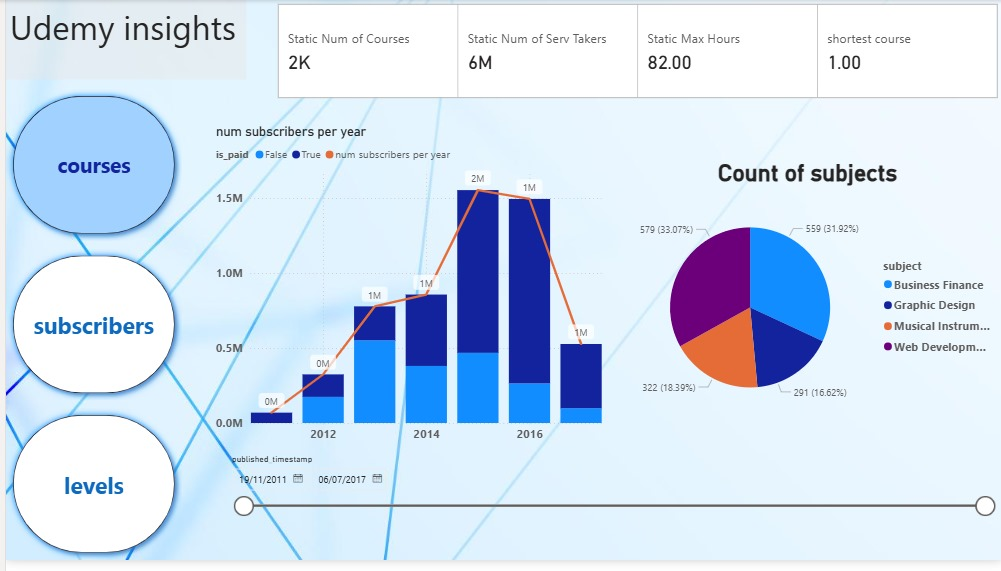

The page's visual inventory and layout, read from the dashboard file:
{"tool":"powerbi","page":{"name":"courses","canvas":[1280,720],"ordinal":0},"visuals":[{"type":"cardVisual","fields":{"Data":["Udemy.Static Num of Courses","Udemy.Static Num of Serv Takers","Udemy.Static Max Hours","Min(Udemy.content_duration_by_hours)"]},"box":[344.4,0,935.6,131.1],"z":0},{"type":"slicer","fields":{"Values":["Udemy.published_timestamp"]},"box":[277.9,578.2,1002.4,141.8],"z":1000},{"type":"lineStackedColumnComboChart","title":"num subscribers per year","fields":{"Category":["Udemy.published_timestamp.Variation.Date Hierarchy.Year","Udemy.published_timestamp.Variation.Date Hierarchy.Quarter","Udemy.published_timestamp.Variation.Date Hierarchy.Month","Udemy.published_timestamp.Variation.Date Hierarchy.Day"],"Y":["Sum(Udemy.num_subscribers)"],"Series":["Udemy.is_paid"],"Y2":["Sum(Udemy.num_subscribers)"]},"box":[264.3,159.7,505.8,418.6],"z":2000},{"type":"textbox","box":[0,0,308.6,102],"z":3000},{"type":"pieChart","title":"Count of subjects","fields":{"Category":["Udemy.subject"],"Y":["CountNonNull(Udemy.subject)"]},"box":[779.5,203.9,500.5,347.5],"z":4000},{"type":"pageNavigator","box":[0,114.4,226.2,605.3],"z":4001}]}

Visuals, with their boxes in screenshot pixels (x1, y1, x2, y2), scaled from the page's 1280x720 canvas onto the 1001x571 screenshot:
cardVisual - Udemy.Static Num of Courses x Udemy.Static Num of Serv Takers: bbox=(269, 0, 1000, 104)
slicer - Udemy.published_timestamp: bbox=(217, 459, 1000, 570)
"num subscribers per year" lineStackedColumnComboChart: bbox=(207, 127, 602, 459)
textbox: bbox=(0, 0, 241, 81)
"Count of subjects" pieChart: bbox=(610, 162, 1000, 437)
pageNavigator: bbox=(0, 91, 177, 570)
